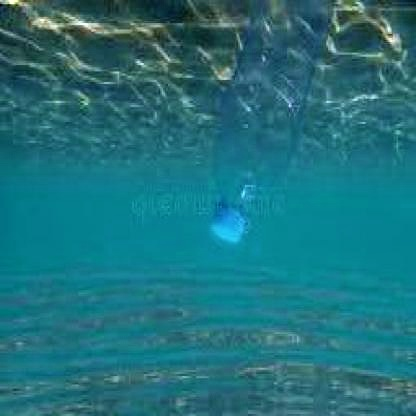pbottle: (198, 2, 342, 250)
